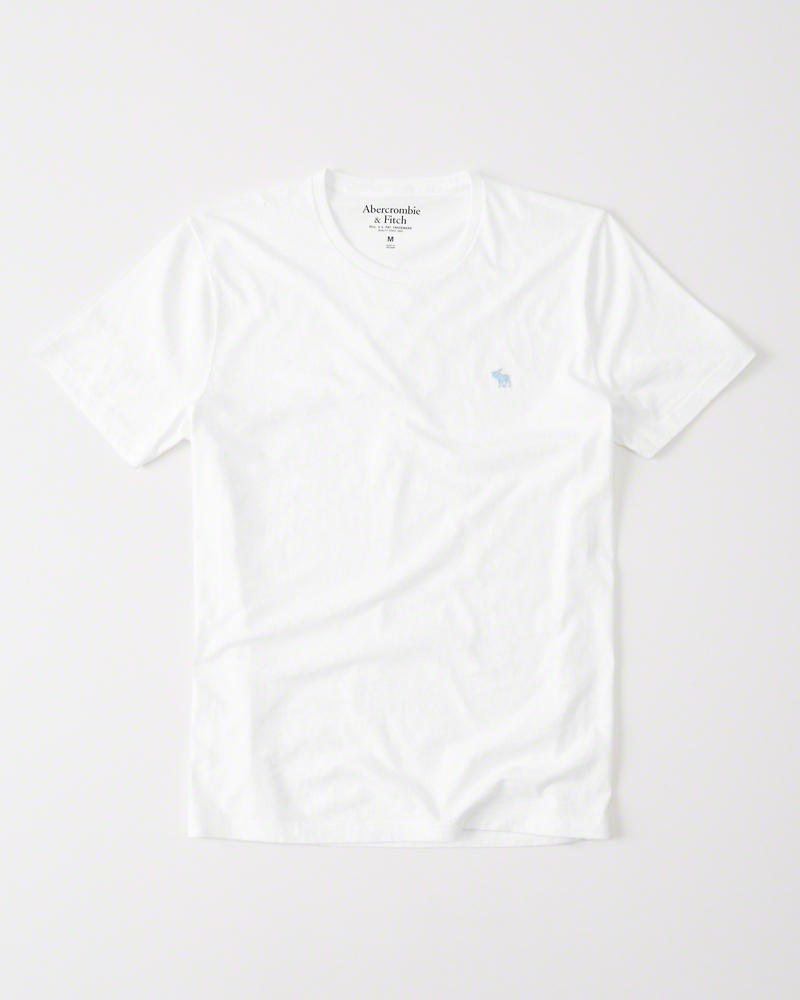teeshirt: (55, 160, 764, 886)
